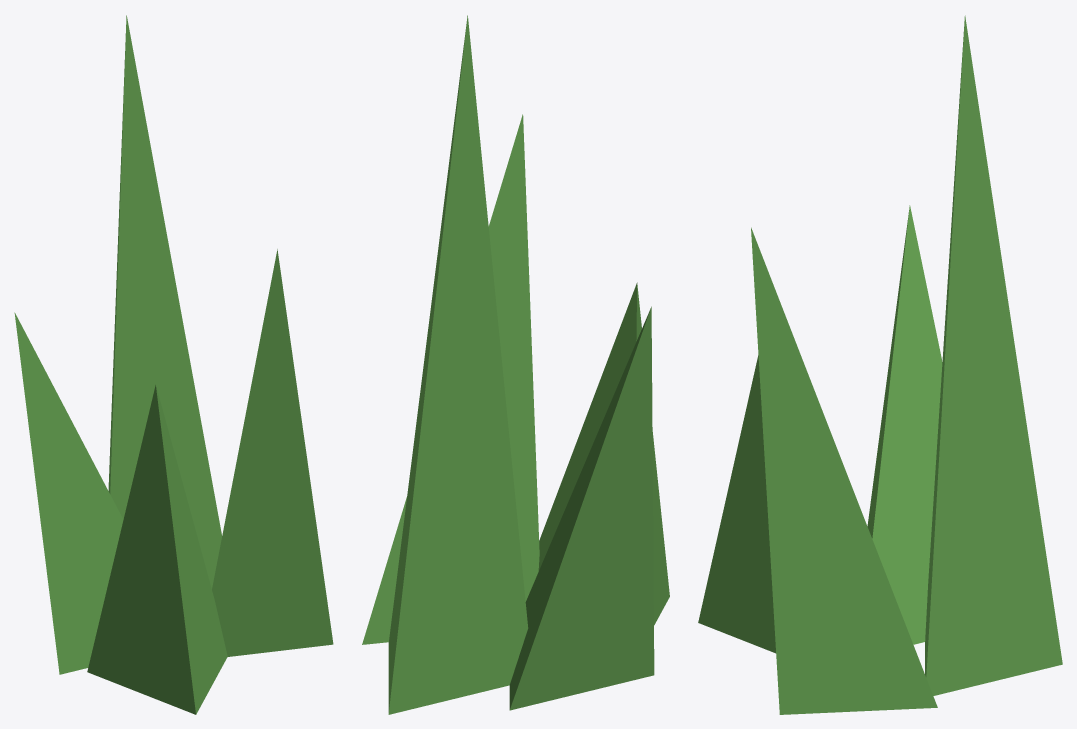
The model's file is Grass.fbx.
3 views of the same model, side by side, from view 1: azimuth 30°, elevation 25°; view 2: azimuth 150°, elevation 25°; view 3: azimuth 270°, elevation 25° (orthographic). The views are drawn at different scales.
Visible parts, largest first — view 1: Cone.001; view 2: Cone.001; view 3: Cone.001.
Boxes of the visible parts, x1,y1,x2,y2 form: Cone.001: (14,15,333,714); Cone.001: (362,15,669,714); Cone.001: (698,15,1062,714).
Bounding box in the file's own units: 90.29 × 199 × 103.
